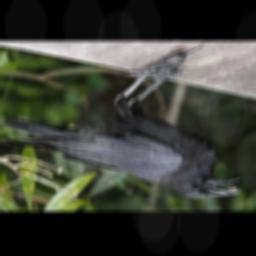Crow: (0, 61, 241, 199)
